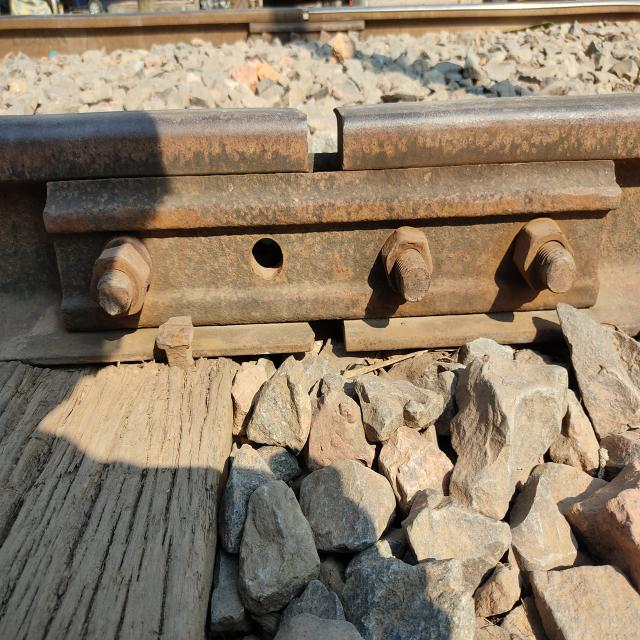defective: (253, 88, 431, 320)
